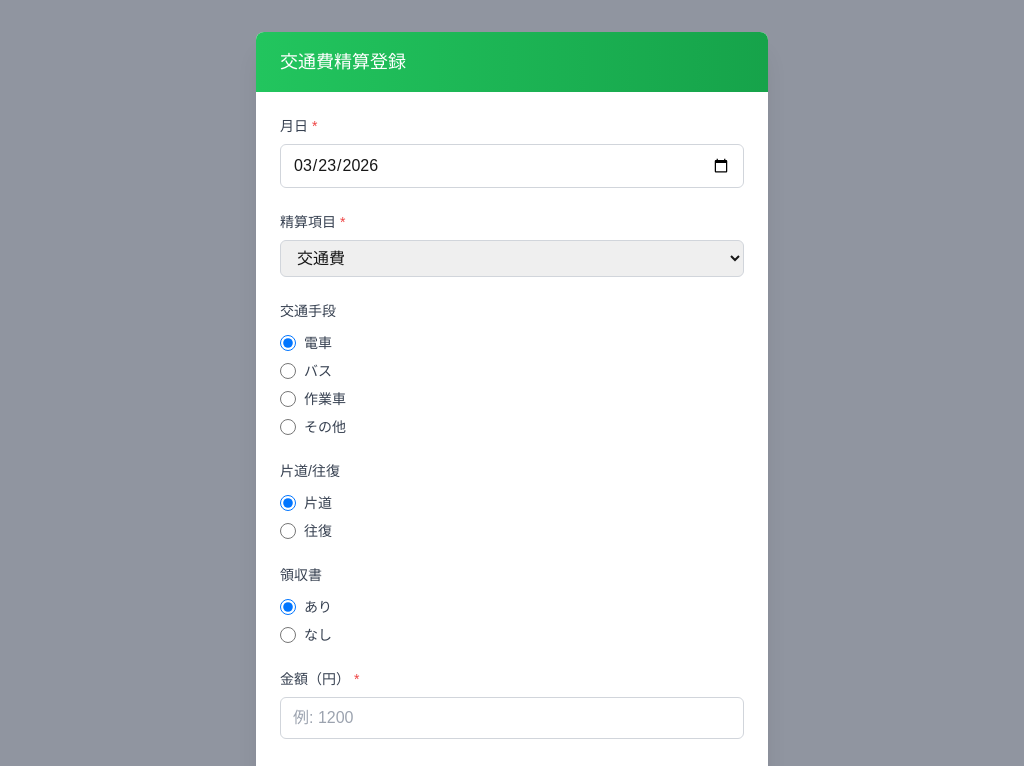
Test case: ExpenseModal — バリデーション › 日付を入力するとそのフィールドのエラーがクリアされる
Note: まず送信してエラーを出す
Clear the date field labelled "月日 *" at {"x": 512, "y": 166}, box left=280, top=144, right=744, bottom=188
(page scrolled)
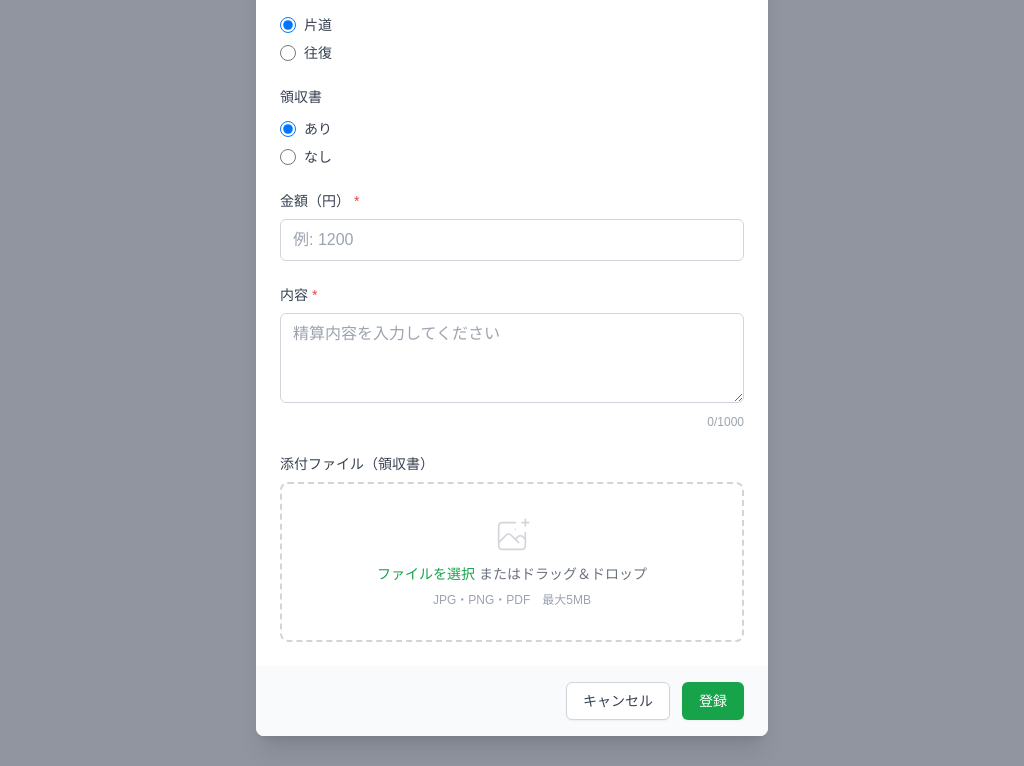
Click the button "登録".
click(713, 701)  # box left=682, top=682, right=744, bottom=720
(page scrolled)
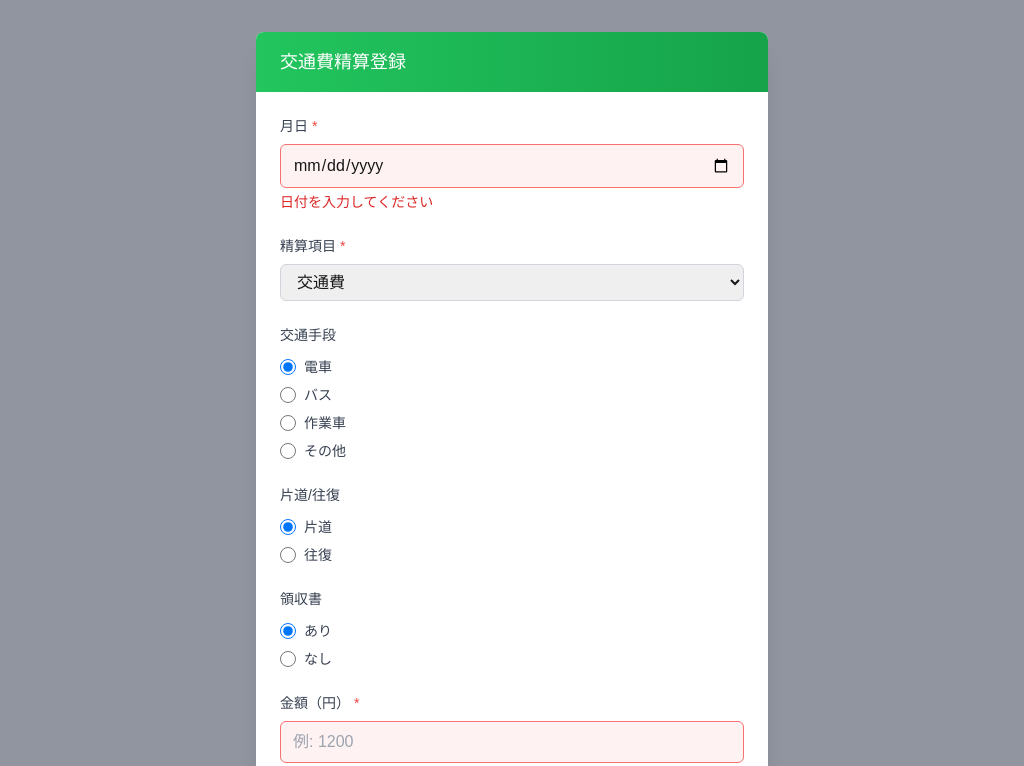
expect the text "日付を入力してください" is shown: met, box left=280, top=194, right=433, bottom=210
Note: 日付を入力するとエラーが消える
Type "2026-03-23" into the date field labelled "月日 *".
click(512, 166); type("2026-03-23")  # box left=280, top=144, right=744, bottom=188
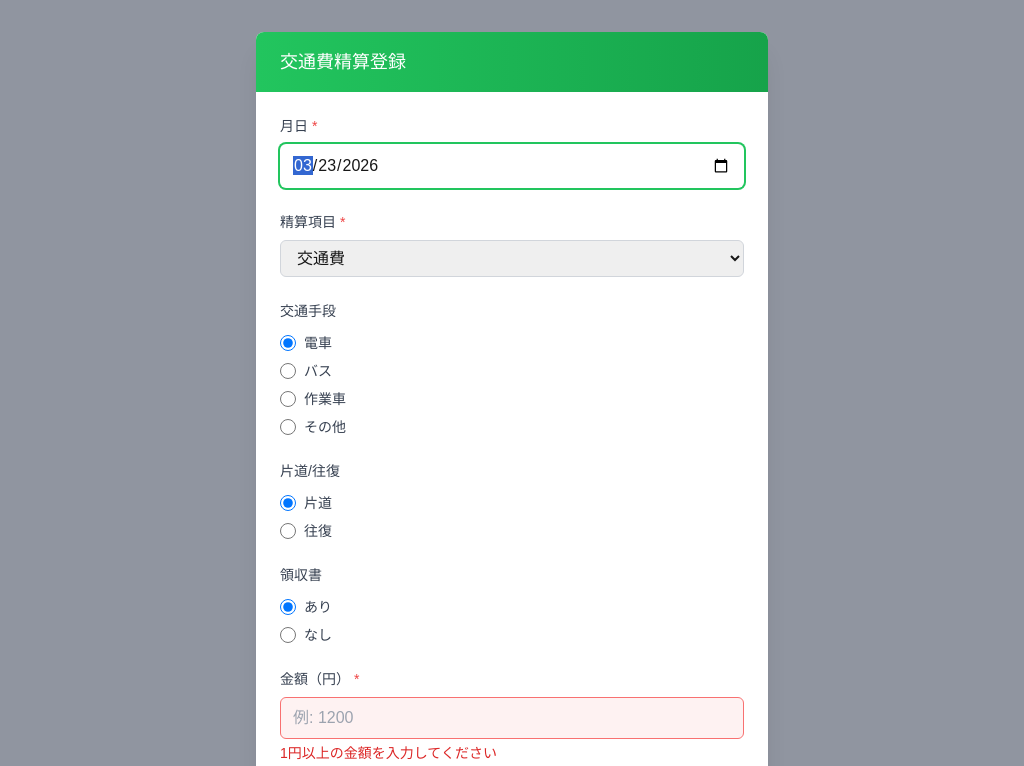
expect the text "日付を入力してください" is gone: met
